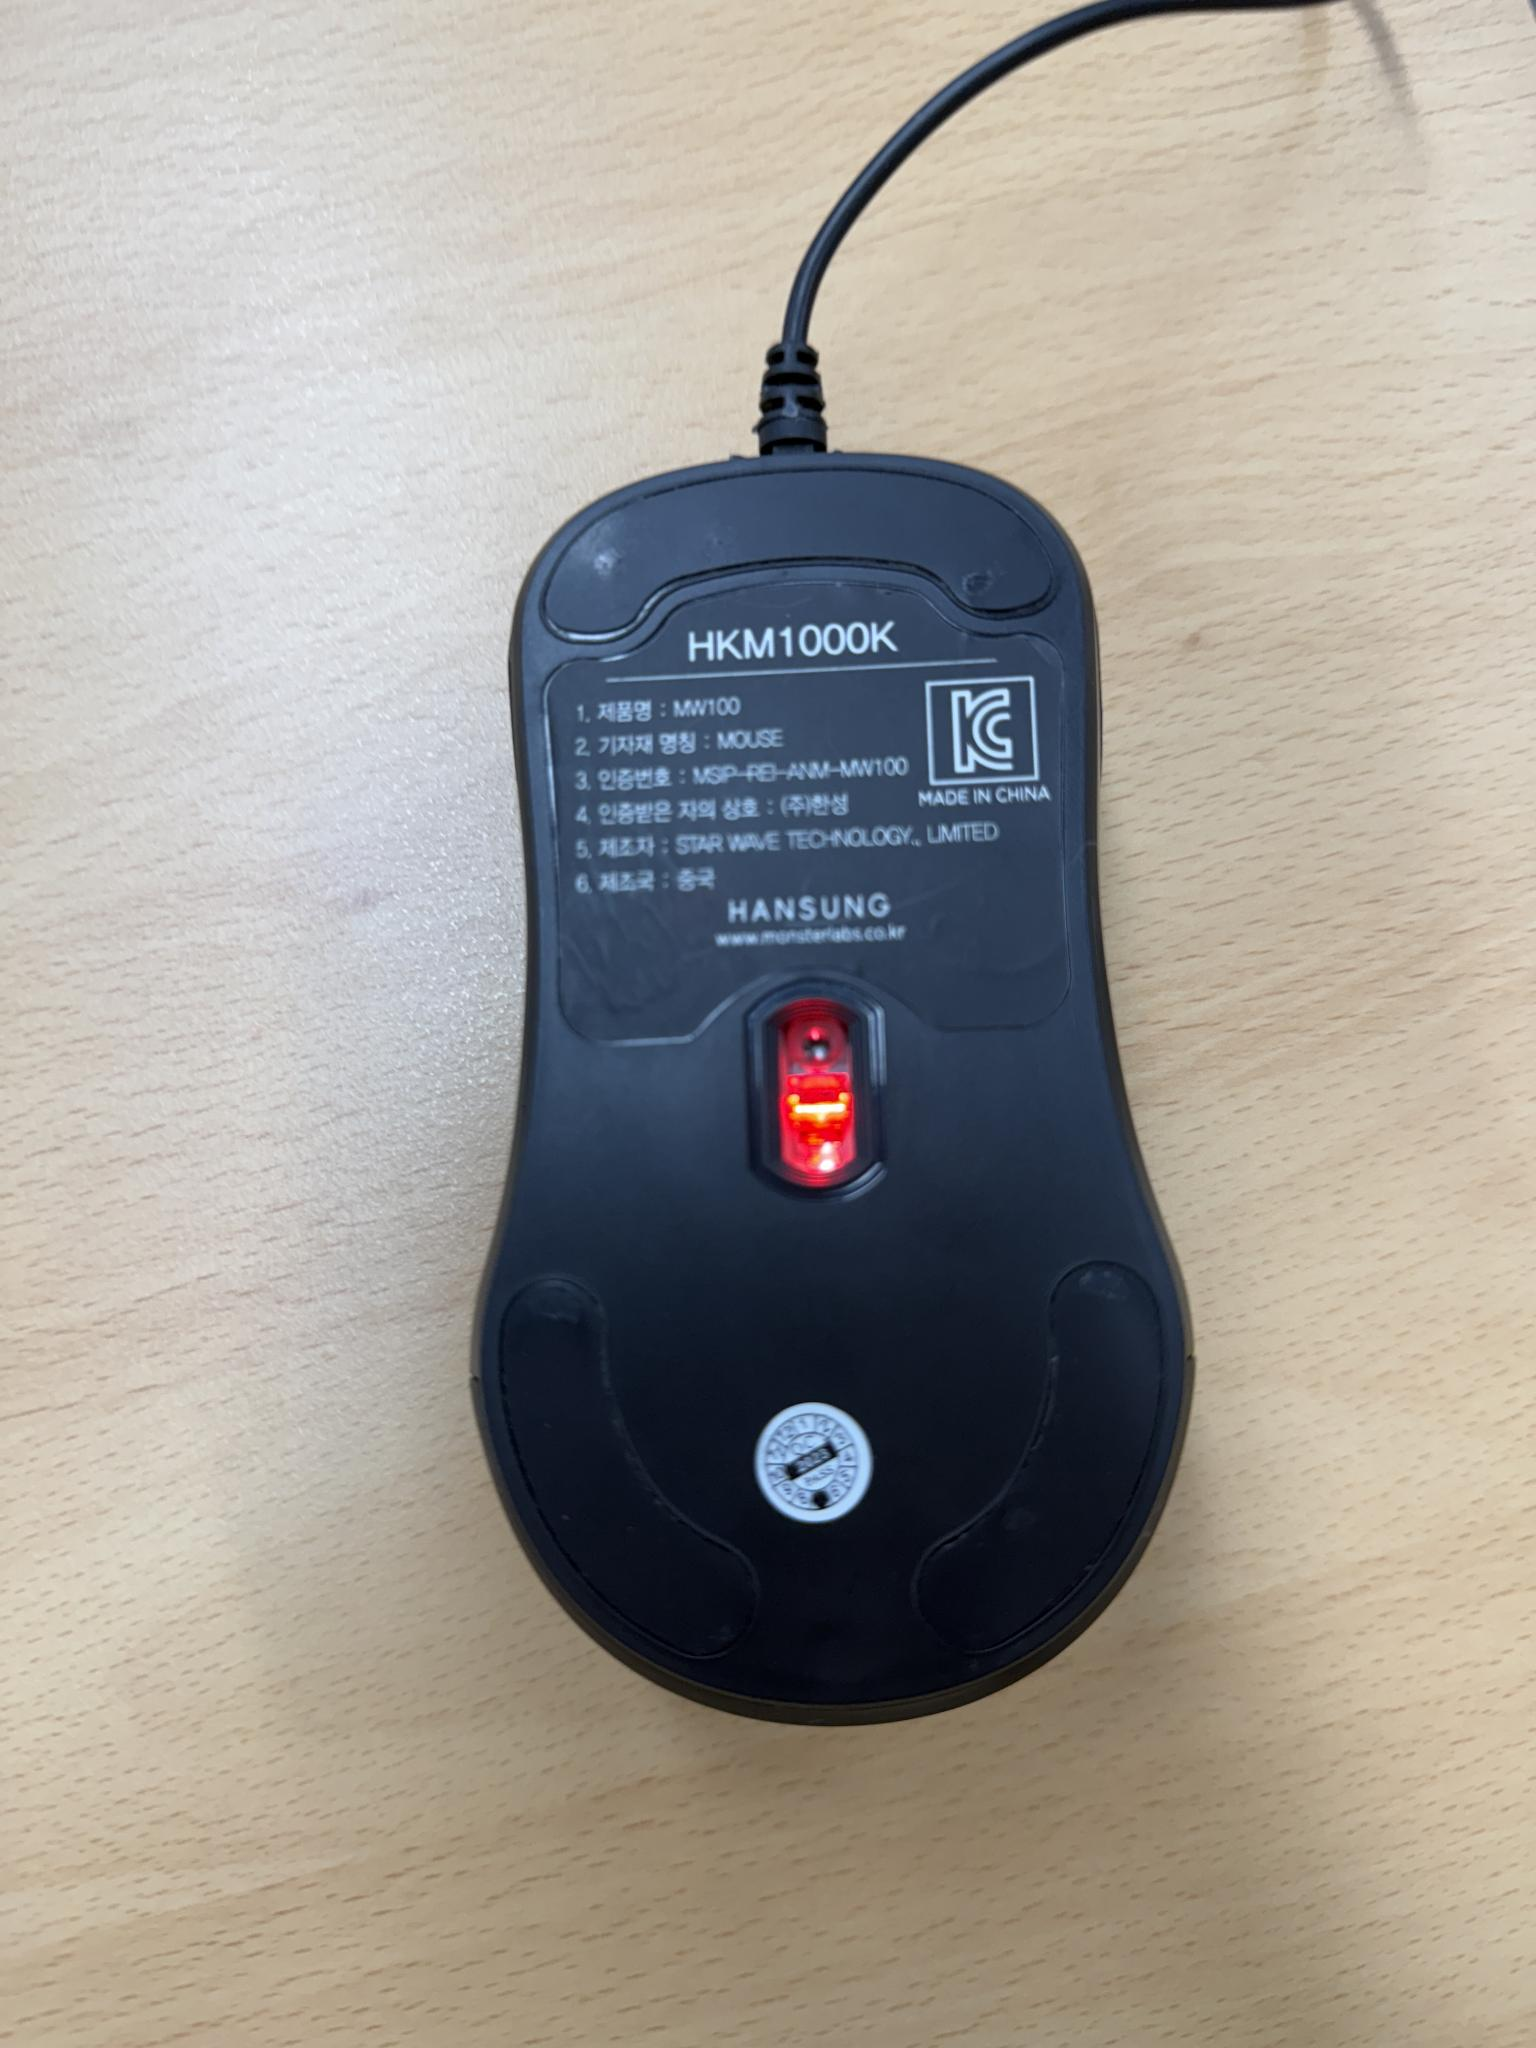back: (468, 439, 1202, 1727)
